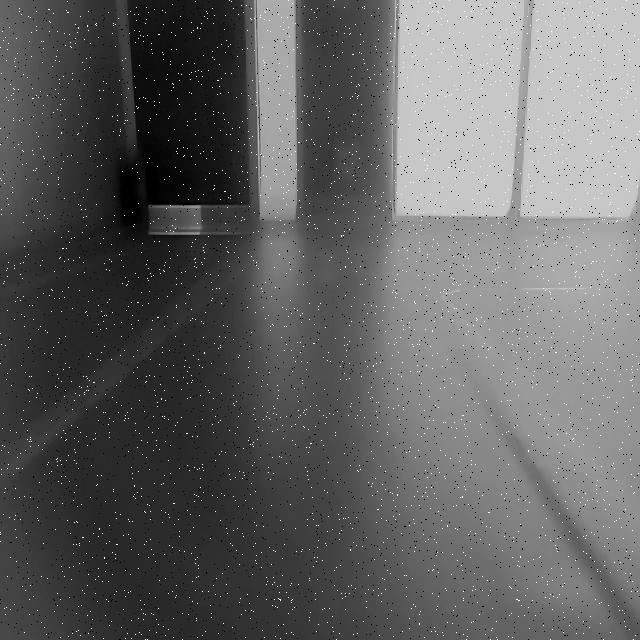left_lane: (0, 248, 256, 497)
right_lane: (443, 296, 640, 561)
